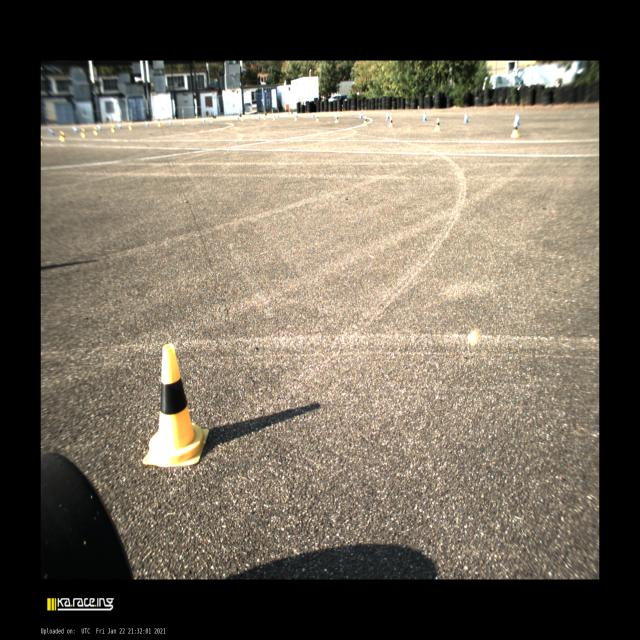blue_cone: (463, 112, 468, 124), (422, 112, 427, 121), (516, 114, 520, 125), (385, 111, 389, 119), (359, 112, 362, 118)
yellow_cone: (142, 344, 209, 466), (511, 121, 519, 138), (434, 118, 441, 131), (388, 117, 393, 127), (363, 116, 367, 126), (335, 116, 338, 123)
